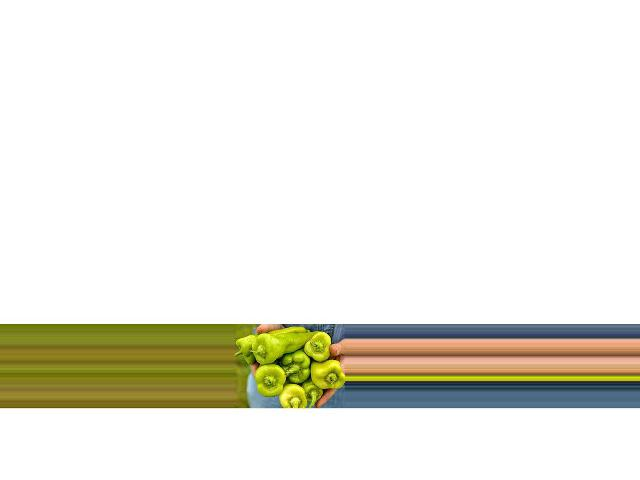bell_pepper: (308, 361, 344, 392)
